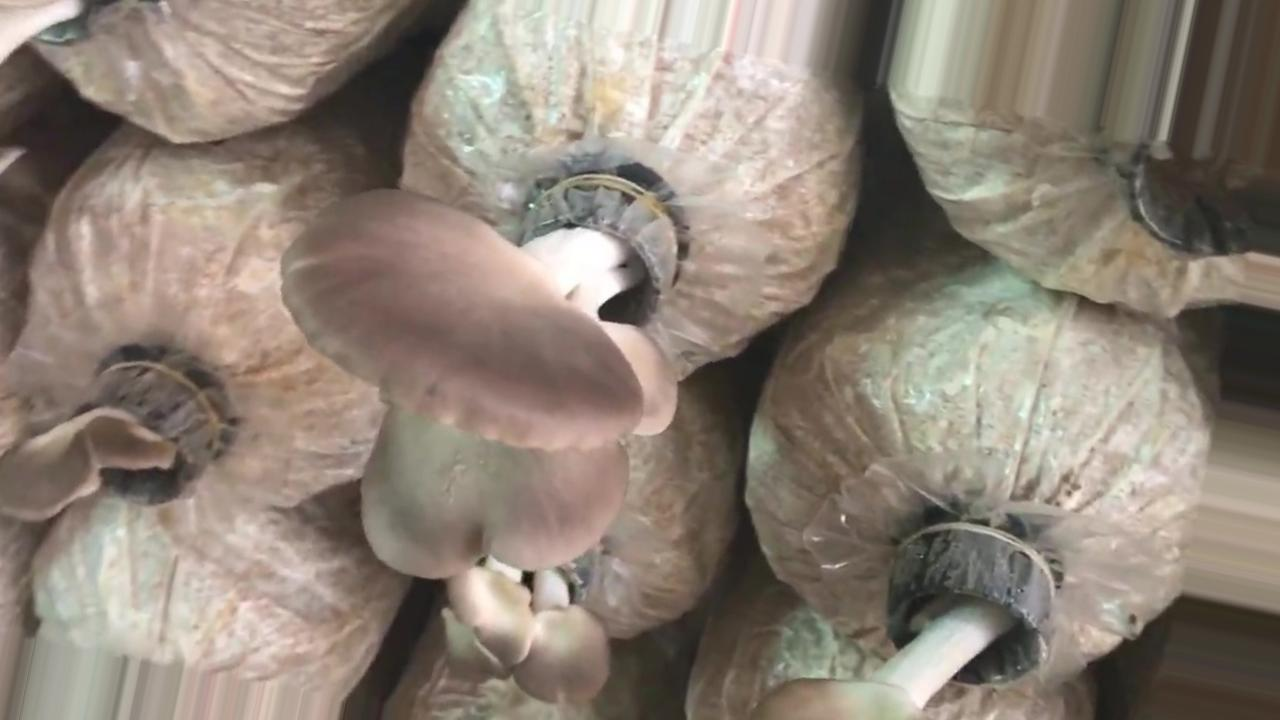nam: (280, 180, 680, 577), (776, 180, 1063, 542), (758, 530, 1066, 720), (1, 354, 220, 521), (445, 552, 610, 703)
